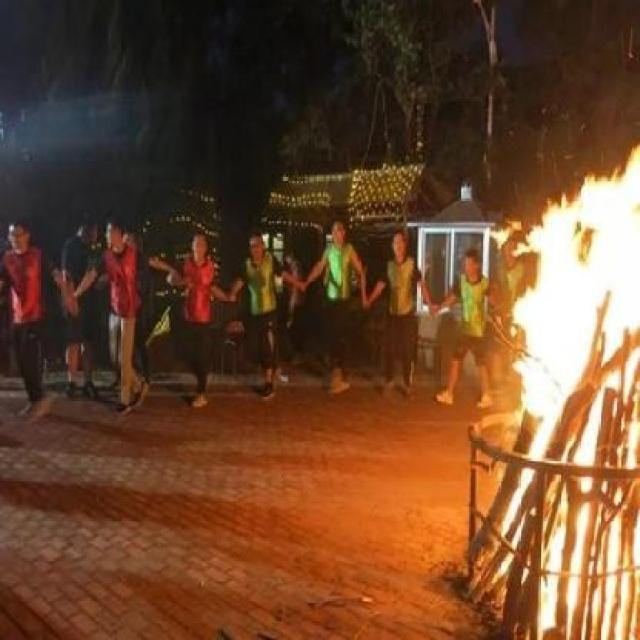Fire: (506, 133, 638, 640)
